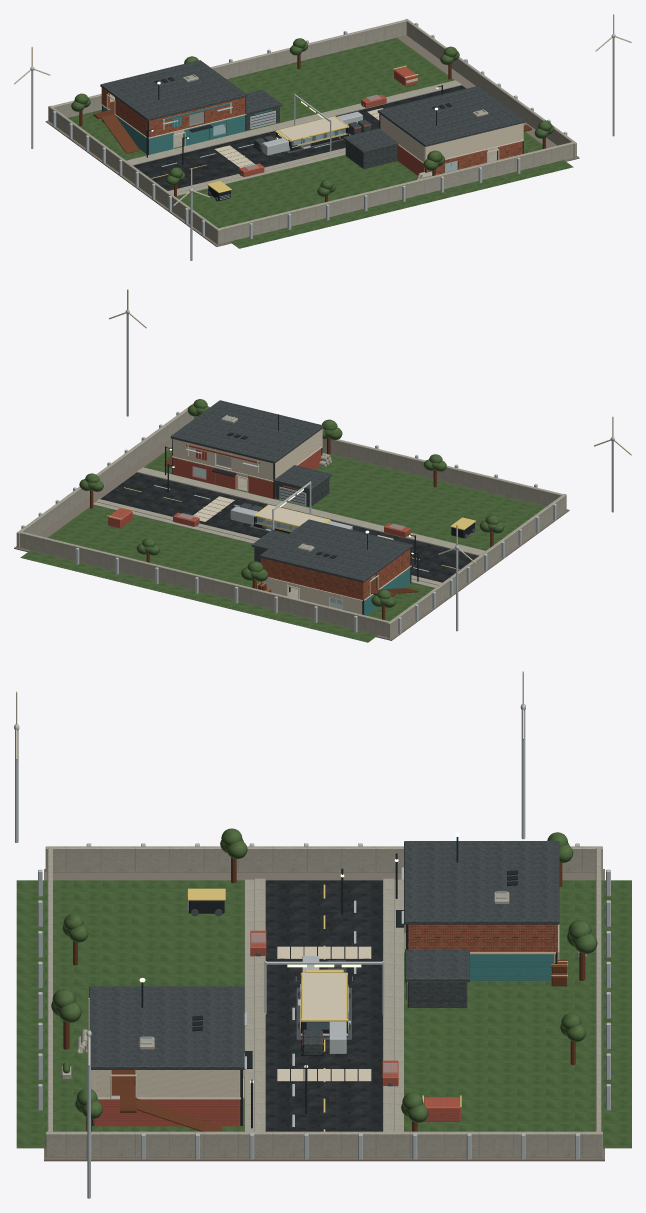
Rendered from atomic-acres-blender-arena.glb.
3 renders of one model, top to bottom at view 1: azimuth 30°, elevation 25°; view 2: azimuth 150°, elevation 25°; view 3: azimuth 270°, elevation 25°, orthographic. The views are drawn at different scales.
Visible parts, largest first — view 1: BLD_BATCH_MAT_ground_olive, BLD_BATCH_MAT_boundary_warm_concrete, BLD_BATCH_MAT_roof_shingles, BLD_BATCH_MAT_asphalt_charcoal, BLD_BATCH_MAT_concrete_weathered, BLD_BATCH_MAT_brushed_alloy, BLD_BATCH_MAT_trim_bone, BLD_BATCH_MAT_coral_upper_plaster, BLD_BATCH_MAT_aqua_upper_brick, BLD_BATCH_MAT_foliage_military, BLD_BATCH_MAT_aqua_oxidized, BLD_BATCH_MAT_earth_edge (+9 smaller); view 2: BLD_BATCH_MAT_ground_olive, BLD_BATCH_MAT_boundary_warm_concrete, BLD_BATCH_MAT_roof_shingles, BLD_BATCH_MAT_asphalt_charcoal, BLD_BATCH_MAT_concrete_weathered, BLD_BATCH_MAT_brushed_alloy, BLD_BATCH_MAT_coral_oxide, BLD_BATCH_MAT_foliage_military, BLD_BATCH_MAT_aqua_upper_brick, BLD_BATCH_MAT_trim_bone, BLD_BATCH_MAT_coral_upper_plaster, BLD_BATCH_MAT_earth_edge (+6 smaller); view 3: BLD_BATCH_MAT_ground_olive, BLD_BATCH_MAT_boundary_warm_concrete, BLD_BATCH_MAT_roof_shingles, BLD_BATCH_MAT_asphalt_charcoal, BLD_BATCH_MAT_concrete_weathered, BLD_BATCH_MAT_brushed_alloy, BLD_BATCH_MAT_trim_bone, BLD_BATCH_MAT_earth_edge, BLD_BATCH_MAT_foliage_military, BLD_BATCH_MAT_coral_oxide, BLD_BATCH_MAT_aqua_upper_brick, BLD_BATCH_MAT_coral_upper_plaster (+5 smaller).
Boxes of the visible parts, x1=… form: BLD_BATCH_MAT_ground_olive: x1=68, y1=38, x2=573, y2=248; BLD_BATCH_MAT_boundary_warm_concrete: x1=48, y1=19, x2=576, y2=244; BLD_BATCH_MAT_roof_shingles: x1=100, y1=60, x2=524, y2=153; BLD_BATCH_MAT_asphalt_charcoal: x1=133, y1=85, x2=465, y2=190; BLD_BATCH_MAT_concrete_weathered: x1=126, y1=80, x2=496, y2=195; BLD_BATCH_MAT_brushed_alloy: x1=30, y1=22, x2=615, y2=260; BLD_BATCH_MAT_trim_bone: x1=14, y1=14, x2=631, y2=205; BLD_BATCH_MAT_coral_upper_plaster: x1=380, y1=114, x2=523, y2=162; BLD_BATCH_MAT_aqua_upper_brick: x1=101, y1=88, x2=245, y2=137; BLD_BATCH_MAT_foliage_military: x1=71, y1=38, x2=554, y2=196; BLD_BATCH_MAT_aqua_oxidized: x1=149, y1=102, x2=342, y2=154; BLD_BATCH_MAT_earth_edge: x1=45, y1=35, x2=579, y2=246; BLD_BATCH_MAT_ground_olive: x1=20, y1=447, x2=545, y2=642; BLD_BATCH_MAT_boundary_warm_concrete: x1=16, y1=403, x2=566, y2=638; BLD_BATCH_MAT_roof_shingles: x1=170, y1=400, x2=412, y2=582; BLD_BATCH_MAT_asphalt_charcoal: x1=100, y1=472, x2=478, y2=582; BLD_BATCH_MAT_concrete_weathered: x1=93, y1=453, x2=485, y2=608; BLD_BATCH_MAT_brushed_alloy: x1=21, y1=310, x2=614, y2=633; BLD_BATCH_MAT_coral_oxide: x1=108, y1=444, x2=410, y2=537; BLD_BATCH_MAT_foliage_military: x1=79, y1=399, x2=504, y2=607; BLD_BATCH_MAT_aqua_upper_brick: x1=261, y1=549, x2=410, y2=600; BLD_BATCH_MAT_trim_bone: x1=109, y1=289, x2=631, y2=604; BLD_BATCH_MAT_coral_upper_plaster: x1=173, y1=429, x2=322, y2=480; BLD_BATCH_MAT_earth_edge: x1=14, y1=438, x2=569, y2=640; BLD_BATCH_MAT_ground_olive: x1=16, y1=880, x2=631, y2=1148; BLD_BATCH_MAT_boundary_warm_concrete: x1=45, y1=846, x2=602, y2=1157; BLD_BATCH_MAT_roof_shingles: x1=89, y1=841, x2=559, y2=1069; BLD_BATCH_MAT_asphalt_charcoal: x1=265, y1=880, x2=382, y2=1131; BLD_BATCH_MAT_concrete_weathered: x1=61, y1=878, x2=586, y2=1131; BLD_BATCH_MAT_brushed_alloy: x1=14, y1=704, x2=610, y2=1198; BLD_BATCH_MAT_trim_bone: x1=16, y1=671, x2=559, y2=1099; BLD_BATCH_MAT_earth_edge: x1=44, y1=869, x2=604, y2=1161; BLD_BATCH_MAT_foliage_military: x1=51, y1=828, x2=597, y2=1122; BLD_BATCH_MAT_coral_oxide: x1=94, y1=930, x2=460, y2=1126; BLD_BATCH_MAT_aqua_upper_brick: x1=408, y1=924, x2=557, y2=952; BLD_BATCH_MAT_coral_upper_plaster: x1=91, y1=1070, x2=240, y2=1097.
Bounding box in the file's own units: 102 × 24.53 × 68.3.
28 materials, 20 textured.
